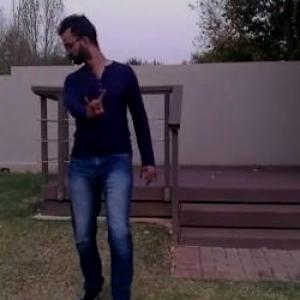takeoff-hand: (77, 79, 113, 121)
